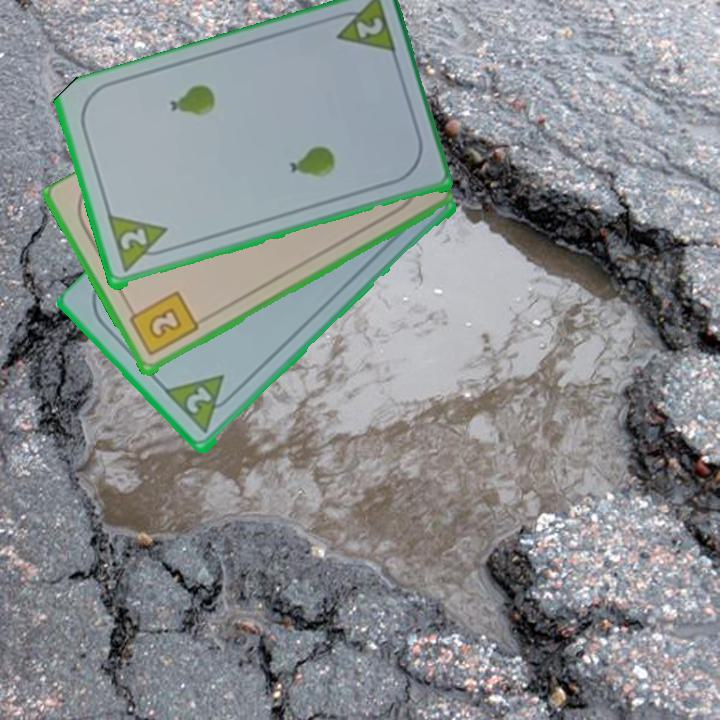2b: (124, 288, 201, 359)
2p: (162, 371, 241, 438), (116, 225, 150, 254), (352, 14, 386, 42)
